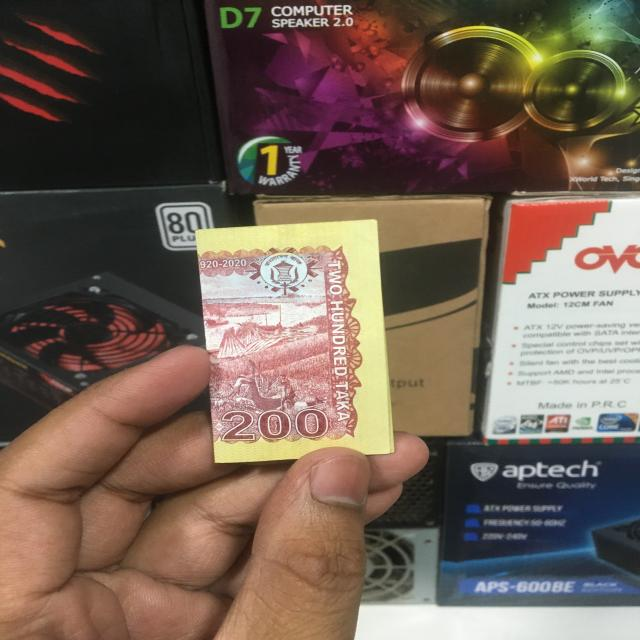Taka: (197, 225, 385, 458)
